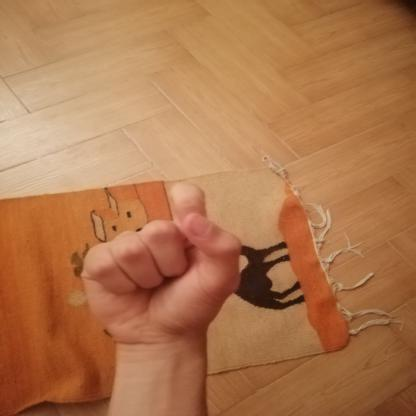FAA: (61, 173, 260, 358)
